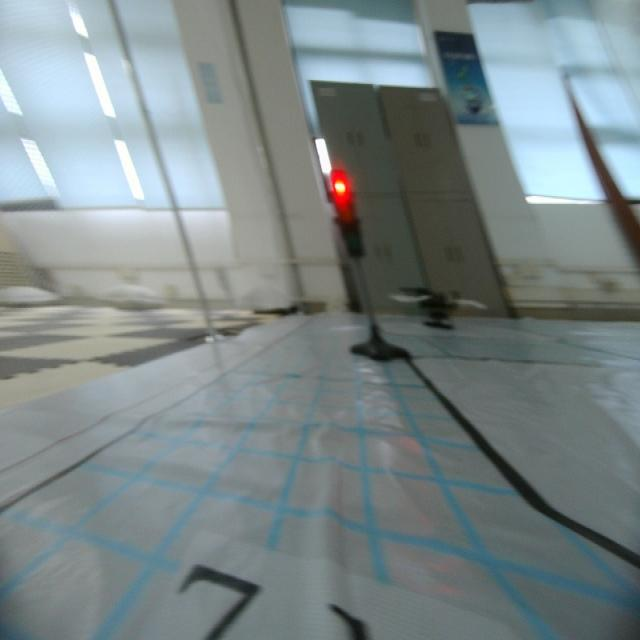red: (328, 171, 366, 264)
